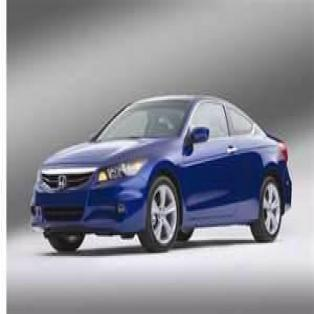Auto: (30, 95, 292, 253)
